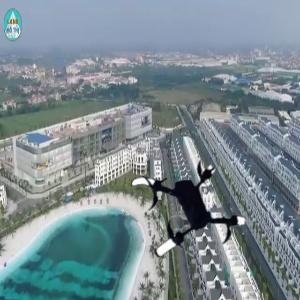drone: (122, 151, 246, 275)
